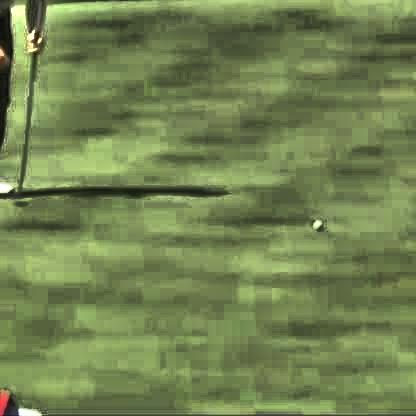golfball: (308, 218, 319, 228)
